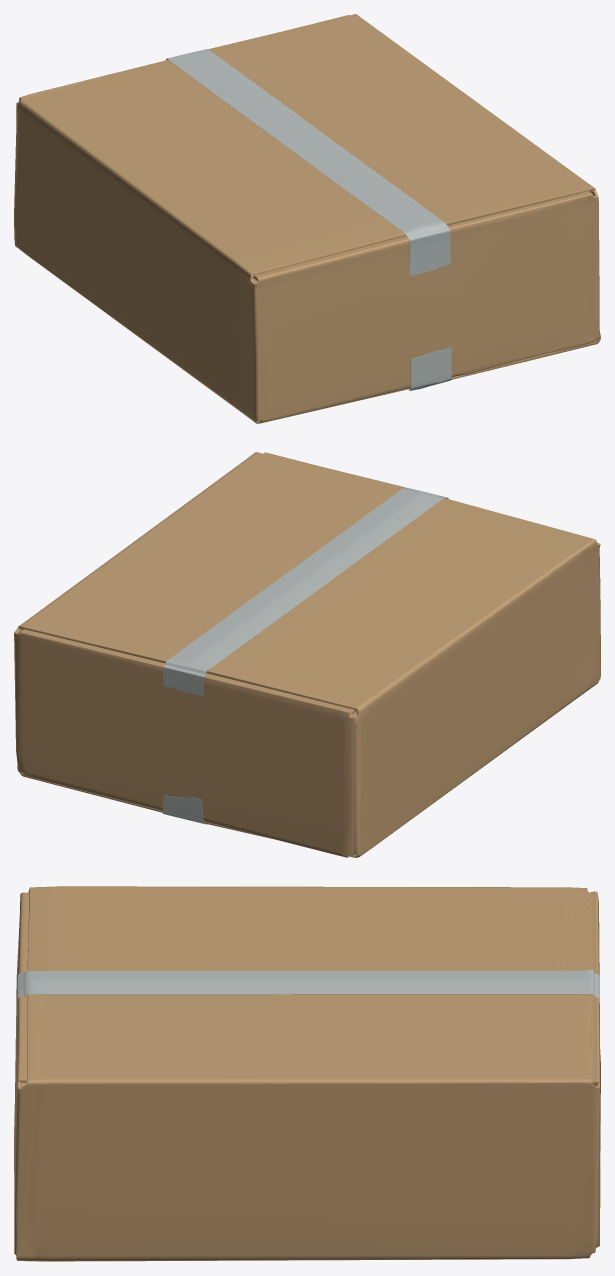
Rendered from box_flat_a07.glb.
The picture shows the model from 3 angles, top to bottom: view 1: azimuth 30°, elevation 25°; view 2: azimuth 150°, elevation 25°; view 3: azimuth 270°, elevation 25°; orthographic projection. The views are drawn at different scales.
Size of the model in its own units: 0.256 by 0.1104 by 0.3172.
